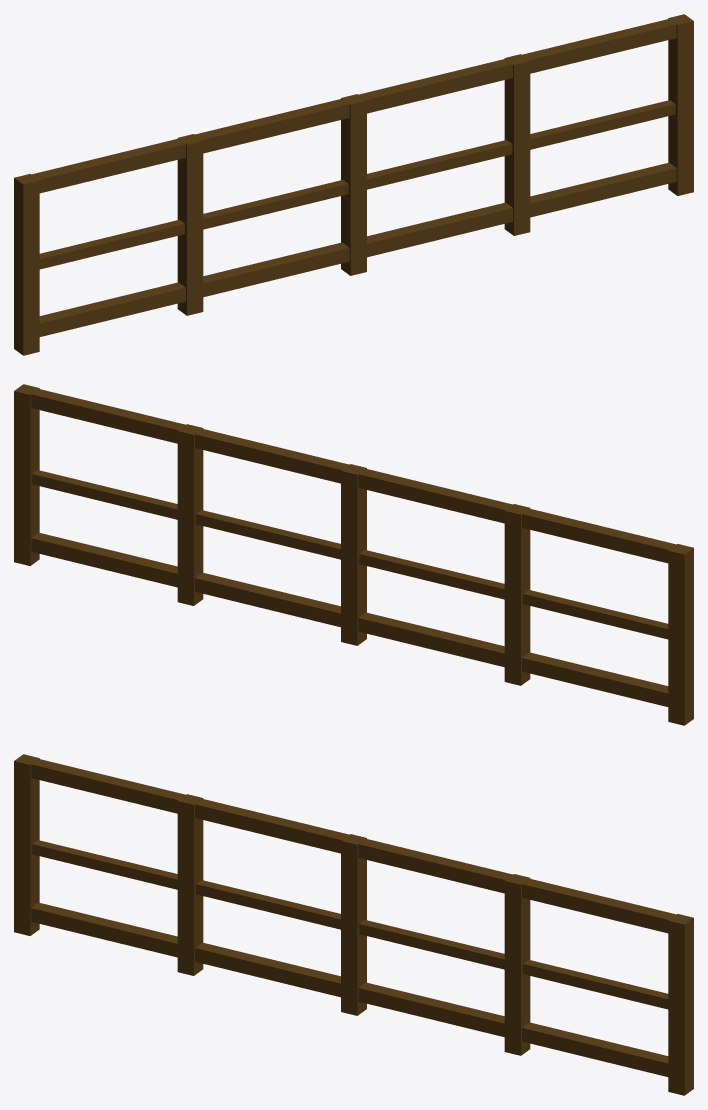
The model's file is Baral.fbx.
The picture shows the model from 3 angles, top to bottom: view 1: azimuth 30°, elevation 25°; view 2: azimuth 150°, elevation 25°; view 3: azimuth 330°, elevation 25°; orthographic projection.
Parts seen in each view (by area): view 1: BalconyRailing; view 2: BalconyRailing; view 3: BalconyRailing.
Part boxes in pixels (x1,y1,x2,y2): BalconyRailing: [14, 14, 693, 355]; BalconyRailing: [14, 384, 693, 725]; BalconyRailing: [14, 754, 693, 1095].
Bounding box in the file's own units: 4.1 × 1 × 0.1.
